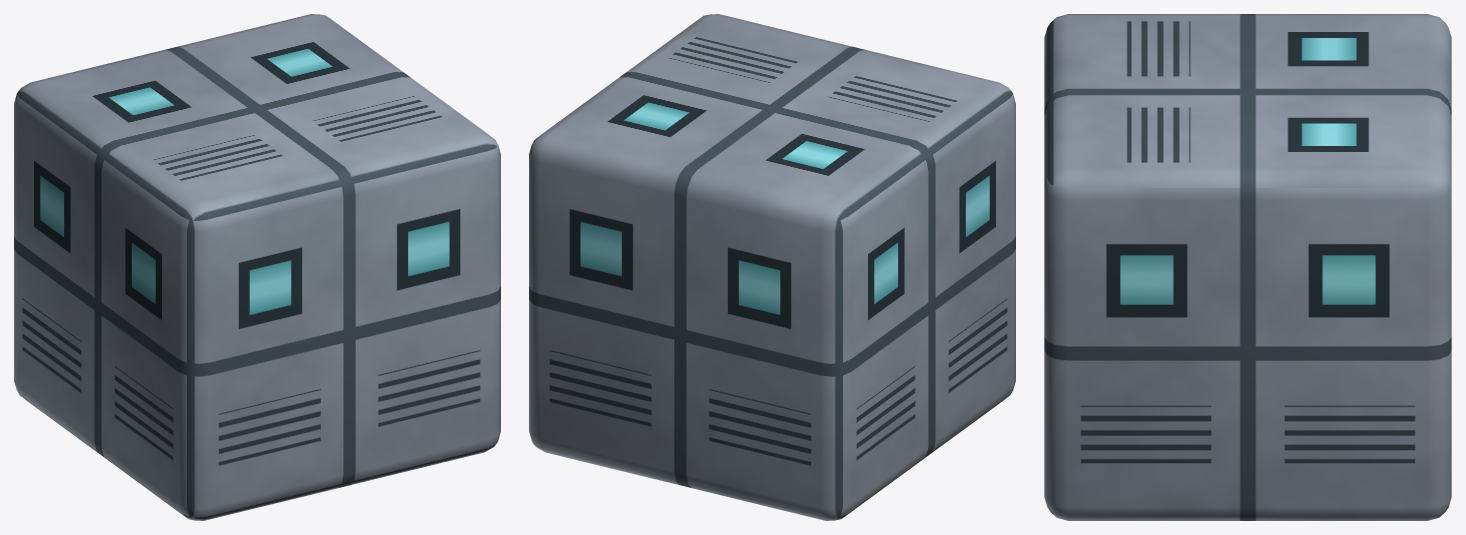
File: border.glb
3 renders of one model, left to right at view 1: azimuth 30°, elevation 25°; view 2: azimuth 150°, elevation 25°; view 3: azimuth 270°, elevation 25°, orthographic. The views are drawn at different scales.
Parts seen in each view (by area): view 1: border; view 2: border; view 3: border.
Boxes of the visible parts, x1,y1,x2,y2 form: border: (14, 14, 500, 520); border: (529, 14, 1015, 520); border: (1044, 14, 1451, 520).
Size of the model in its own units: 1 by 0.95 by 1.
Materials: 1 (1 with a texture image).
